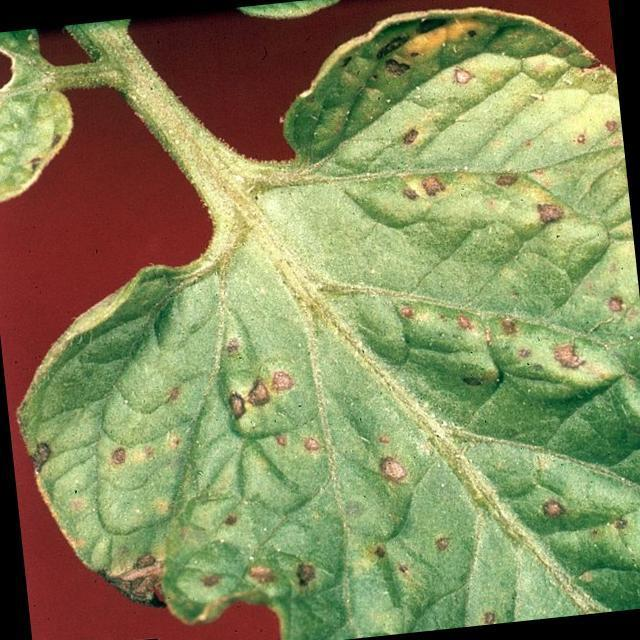Septoria: (56, 23, 640, 621)
